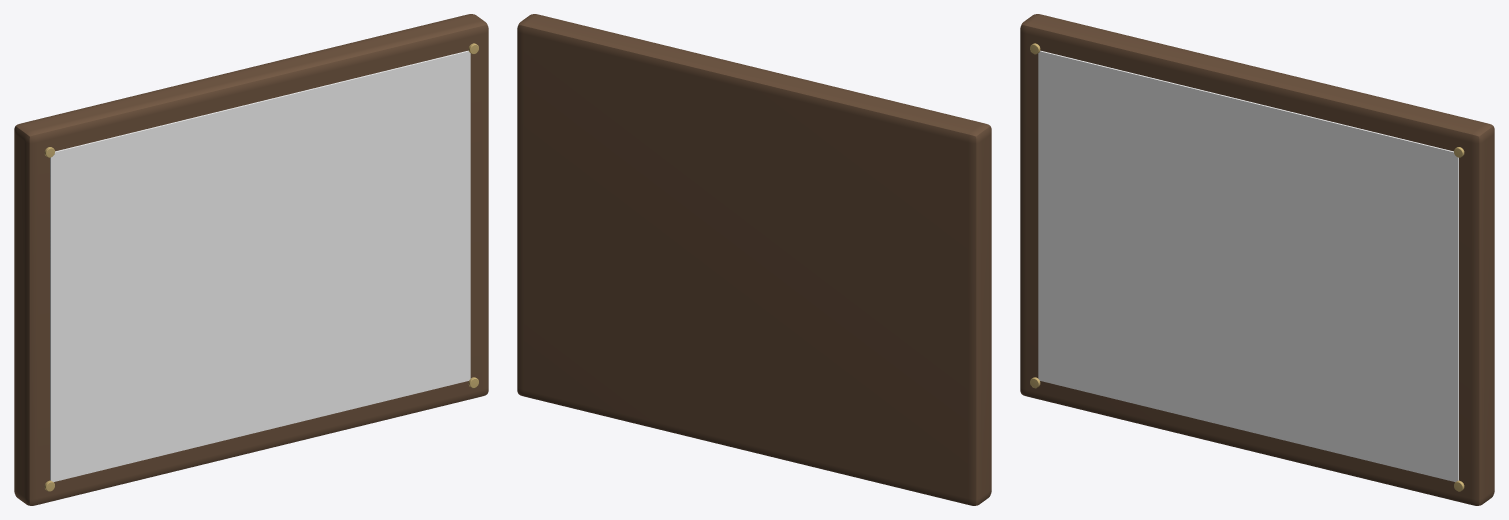
Rendered from award_plaque.fbx.
3 renders of one model, left to right at view 1: azimuth 30°, elevation 25°; view 2: azimuth 150°, elevation 25°; view 3: azimuth 330°, elevation 25°, orthographic.
Visible parts, largest first — view 1: EQ_award_plaque_M_Print, EQ_award_plaque_M_FrameWalnut; view 2: EQ_award_plaque_M_FrameWalnut; view 3: EQ_award_plaque_M_Print, EQ_award_plaque_M_FrameWalnut.
Boxes of the visible parts, <box> form: EQ_award_plaque_M_Print: <box>50,50,470,481</box>; EQ_award_plaque_M_FrameWalnut: <box>14,14,488,505</box>; EQ_award_plaque_M_FrameWalnut: <box>517,14,991,505</box>; EQ_award_plaque_M_Print: <box>1038,50,1458,481</box>; EQ_award_plaque_M_FrameWalnut: <box>1020,14,1494,505</box>.
Bounding box in the file's own units: 0.44 × 0.34 × 0.0325.
